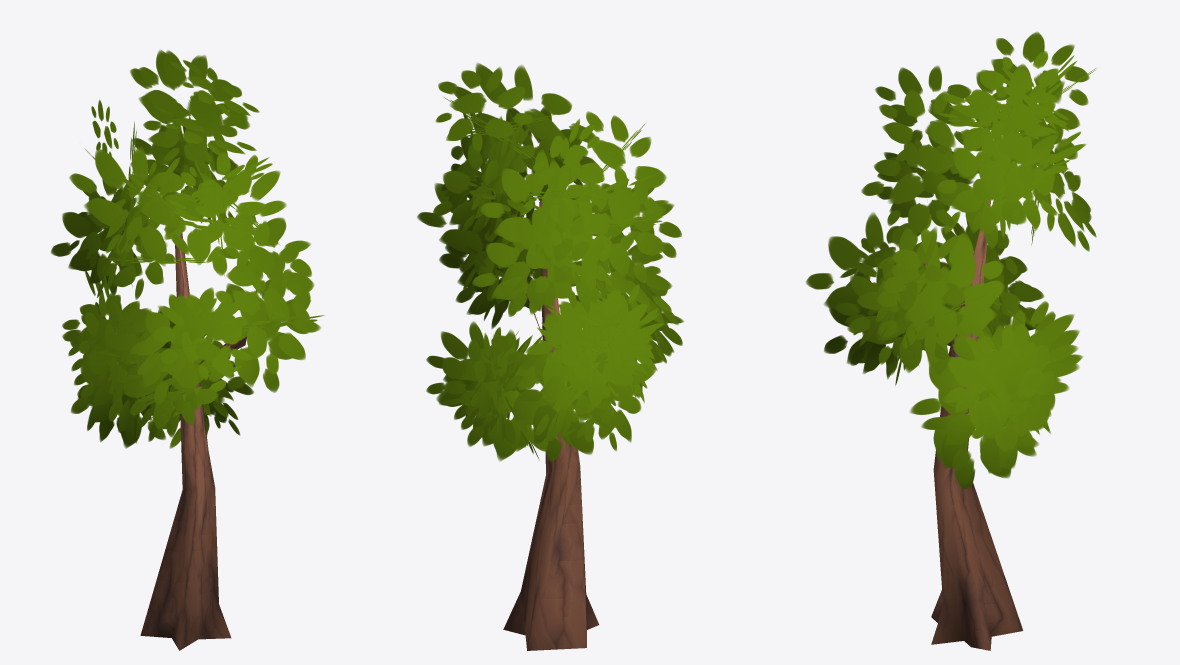
Rendered from broad-1-far.glb.
3 renders of one model, left to right at view 1: azimuth 30°, elevation 25°; view 2: azimuth 150°, elevation 25°; view 3: azimuth 270°, elevation 25°, orthographic. The views are drawn at different scales.
Parts seen in each view (by area): view 1: CommonTree_3; view 2: CommonTree_3; view 3: CommonTree_3.
Part boxes in pixels (x1,y1,x2,y2): CommonTree_3: [51, 50, 324, 650]; CommonTree_3: [417, 63, 684, 650]; CommonTree_3: [806, 32, 1096, 650].
Size of the model in its own units: 5.5 by 9.62 by 5.49.
Materials: 2 (2 with a texture image).
